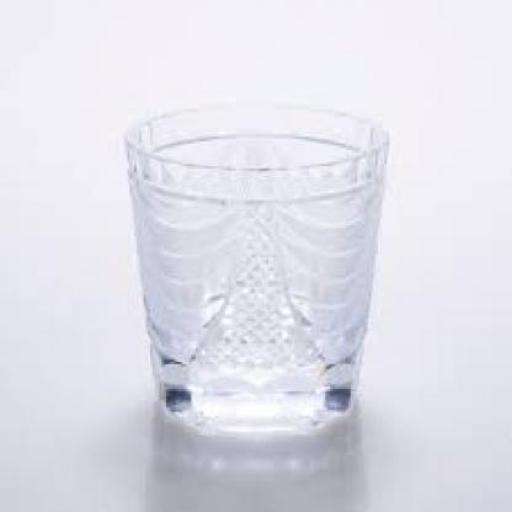glass: (122, 105, 384, 432)
